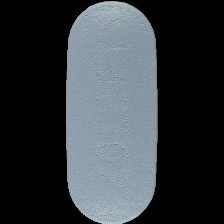67544-298: (0, 0, 224, 224)
